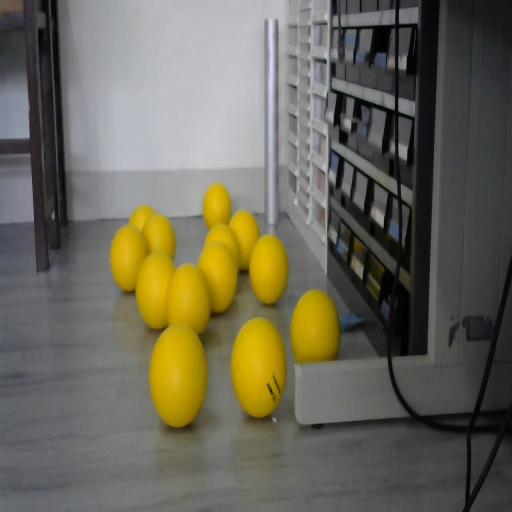FUEL: (230, 315, 288, 418), (149, 324, 207, 427), (290, 289, 341, 365), (165, 264, 211, 336), (135, 252, 176, 330), (248, 233, 290, 305), (198, 240, 238, 313), (110, 224, 148, 292), (228, 210, 260, 270), (203, 223, 240, 269), (143, 212, 177, 261), (203, 183, 232, 229), (129, 205, 156, 234)
